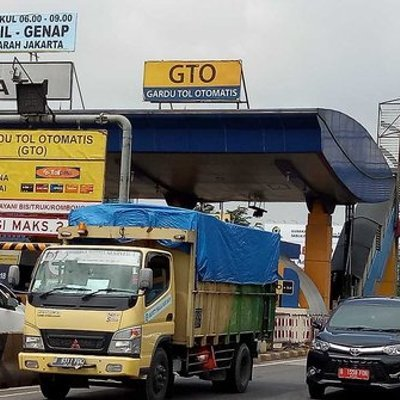plate: (338, 368, 369, 381), (53, 358, 81, 369)
